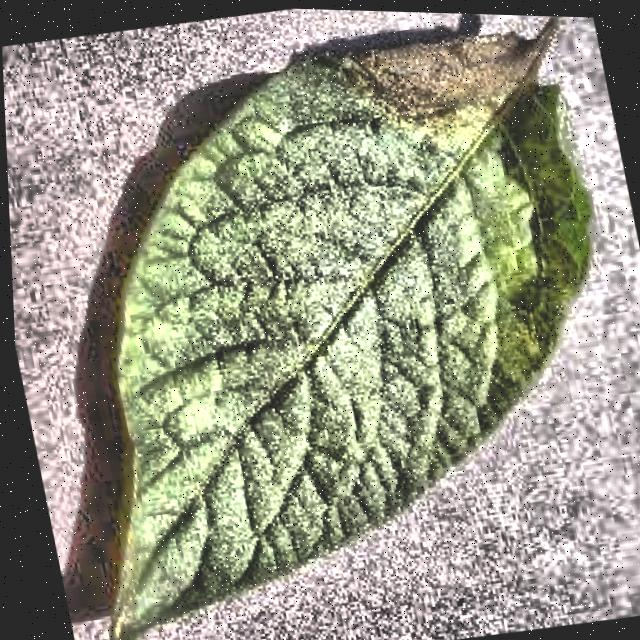Potato_leaf_late_blight: (120, 19, 600, 640)
